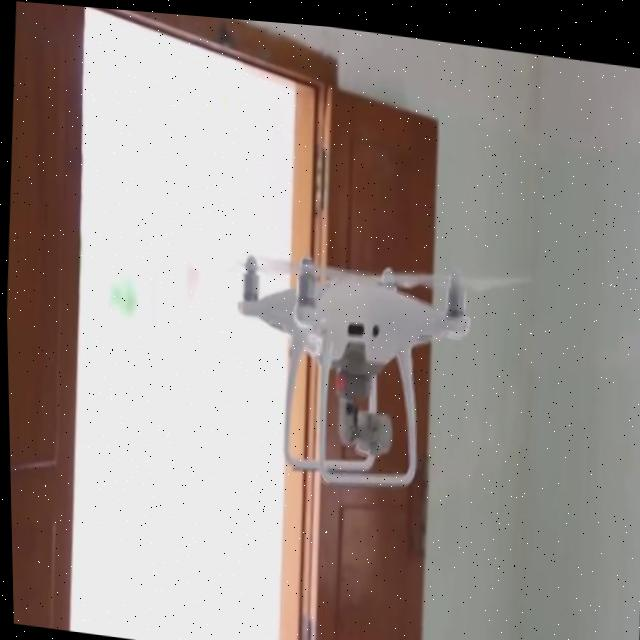drones: (179, 182, 552, 544)
